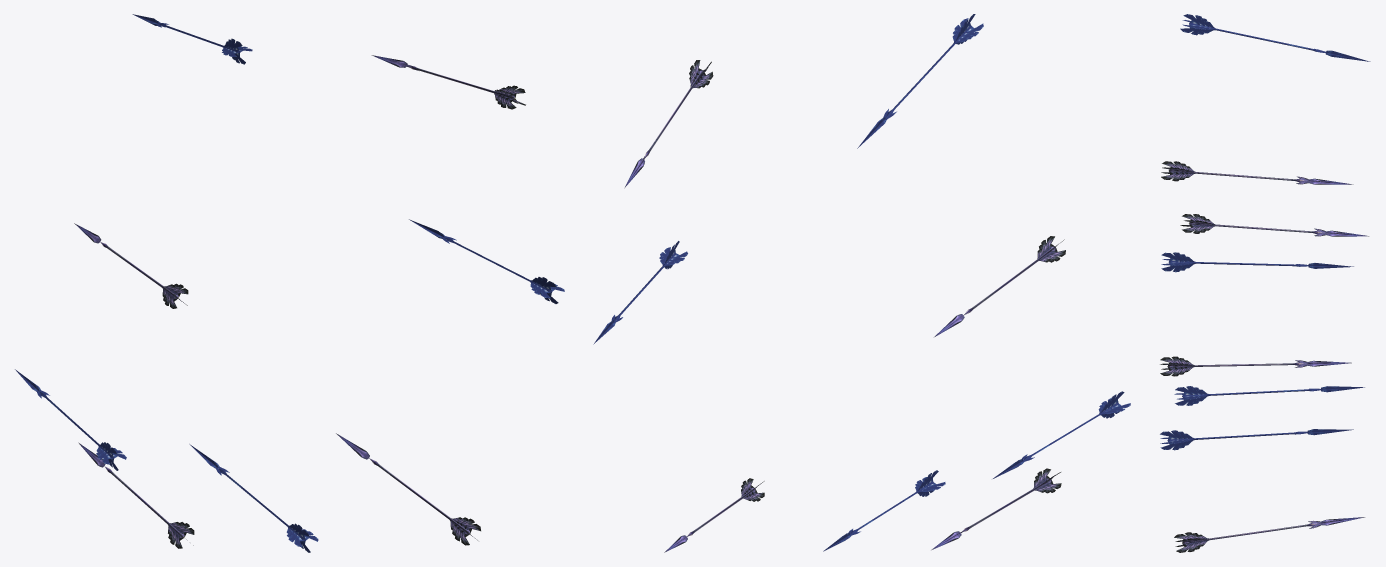
The model's file is tx_ranger_jianlao_hit.obj.
3 renders of one model, left to right at view 1: azimuth 30°, elevation 25°; view 2: azimuth 150°, elevation 25°; view 3: azimuth 270°, elevation 25°, orthographic. The views are drawn at different scales.
Visible parts, largest first — view 1: jian01, jian02, jian05, jian07, jian03, jian04, jian, jian06; view 2: jian06, jian, jian02, jian03, jian04, jian05, jian07, jian01; view 3: jian, jian03, jian01, jian02, jian07, jian06, jian04, jian05.
Boxes of the visible parts, x1=… form: jian01: x1=336, y1=433, x2=480, y2=545; jian02: x1=371, y1=55, x2=525, y2=109; jian05: x1=409, y1=219, x2=564, y2=303; jian07: x1=189, y1=444, x2=318, y2=552; jian03: x1=78, y1=442, x2=194, y2=548; jian04: x1=15, y1=369, x2=126, y2=470; jian: x1=74, y1=223, x2=188, y2=308; jian06: x1=132, y1=14, x2=252, y2=64; jian06: x1=857, y1=14, x2=983, y2=148; jian: x1=933, y1=236, x2=1065, y2=337; jian02: x1=624, y1=60, x2=713, y2=188; jian03: x1=931, y1=468, x2=1061, y2=550; jian04: x1=993, y1=391, x2=1130, y2=478; jian05: x1=593, y1=241, x2=687, y2=344; jian07: x1=823, y1=470, x2=945, y2=551; jian01: x1=664, y1=478, x2=764, y2=552; jian: x1=1161, y1=161, x2=1353, y2=184; jian03: x1=1160, y1=356, x2=1351, y2=376; jian01: x1=1174, y1=517, x2=1365, y2=552; jian02: x1=1180, y1=214, x2=1369, y2=236; jian07: x1=1160, y1=429, x2=1353, y2=450; jian06: x1=1180, y1=14, x2=1370, y2=61; jian04: x1=1161, y1=252, x2=1353, y2=272; jian05: x1=1174, y1=386, x2=1364, y2=405.
Bounding box in the file's own units: 219 × 247 × 106.
2 materials, 2 textured.
